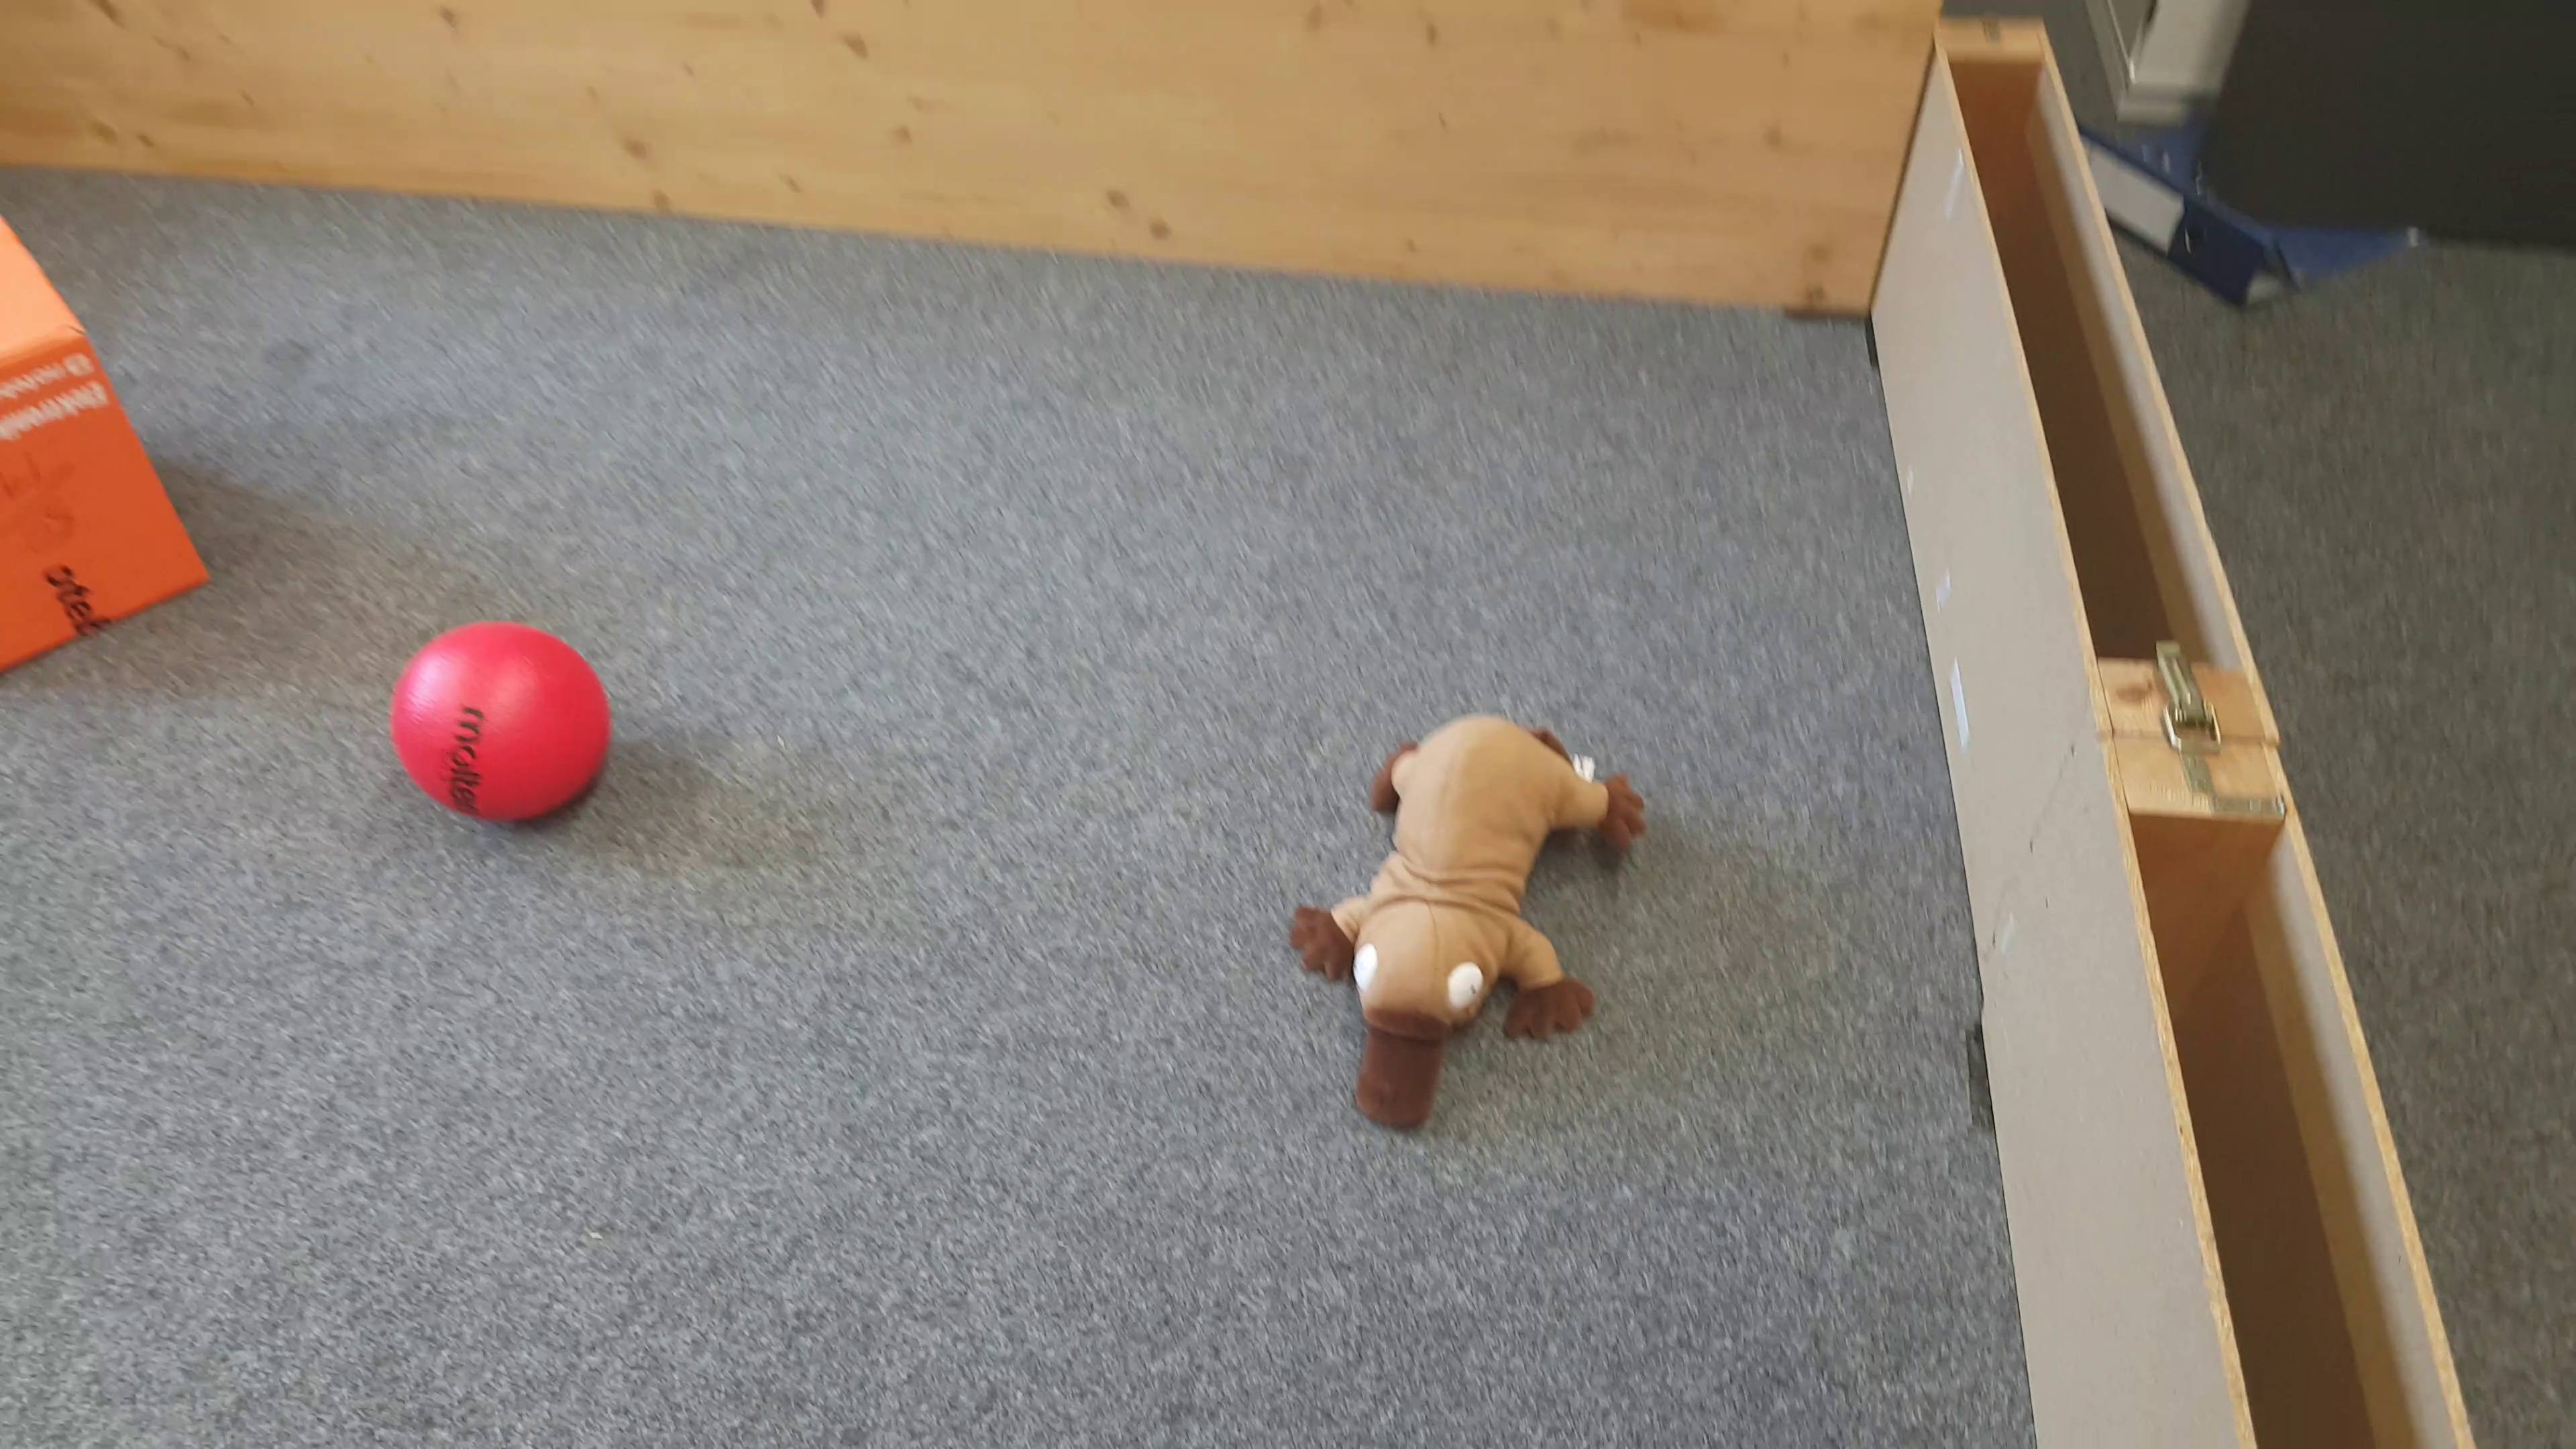grasp: (1277, 715, 1647, 1138)
kick: (386, 619, 614, 823)
push: (4, 205, 211, 688)
